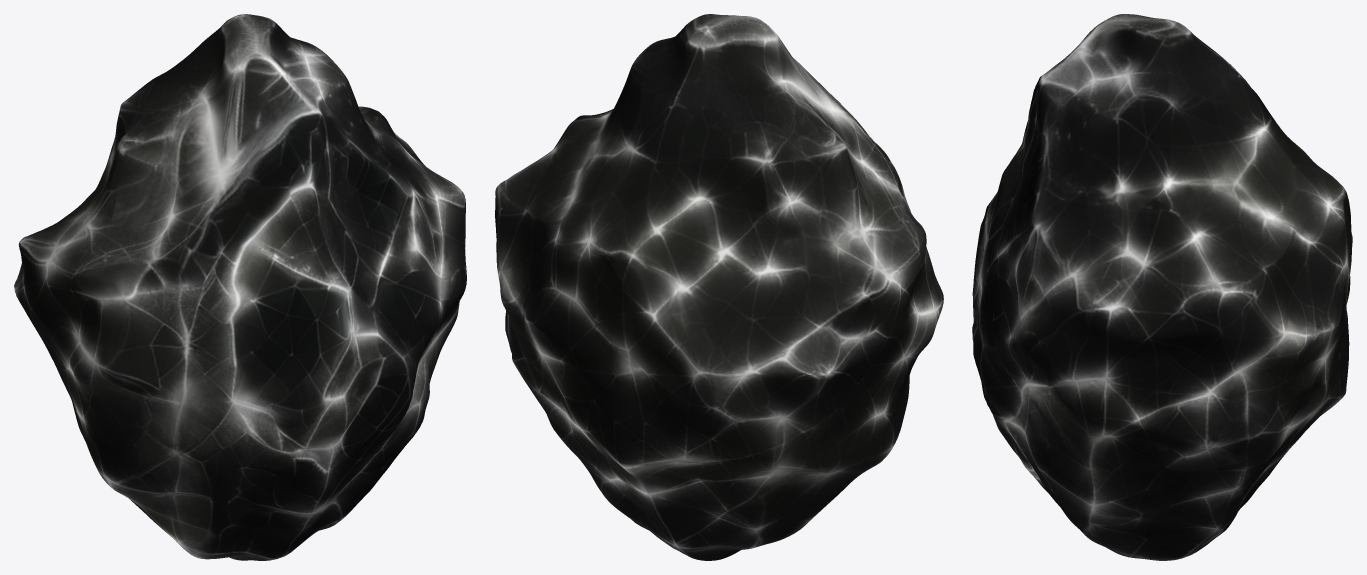
Rendered from 18292c9f-7b5b-4465-ba7b-05da7abd23de_textured_mesh.glb.
The picture shows the model from 3 angles, left to right: view 1: azimuth 30°, elevation 25°; view 2: azimuth 150°, elevation 25°; view 3: azimuth 270°, elevation 25°; orthographic projection.
Parts seen in each view (by area): view 1: tmpsyfisibr.ply; view 2: tmpsyfisibr.ply; view 3: tmpsyfisibr.ply.
Part boxes in pixels (left/top/right/bottom): tmpsyfisibr.ply: left=14, top=14, right=466, bottom=560; tmpsyfisibr.ply: left=495, top=14, right=943, bottom=560; tmpsyfisibr.ply: left=972, top=14, right=1352, bottom=560.
Size of the model in its own units: 1.5 by 1.96 by 1.26.
Materials: 1 (1 with a texture image).
